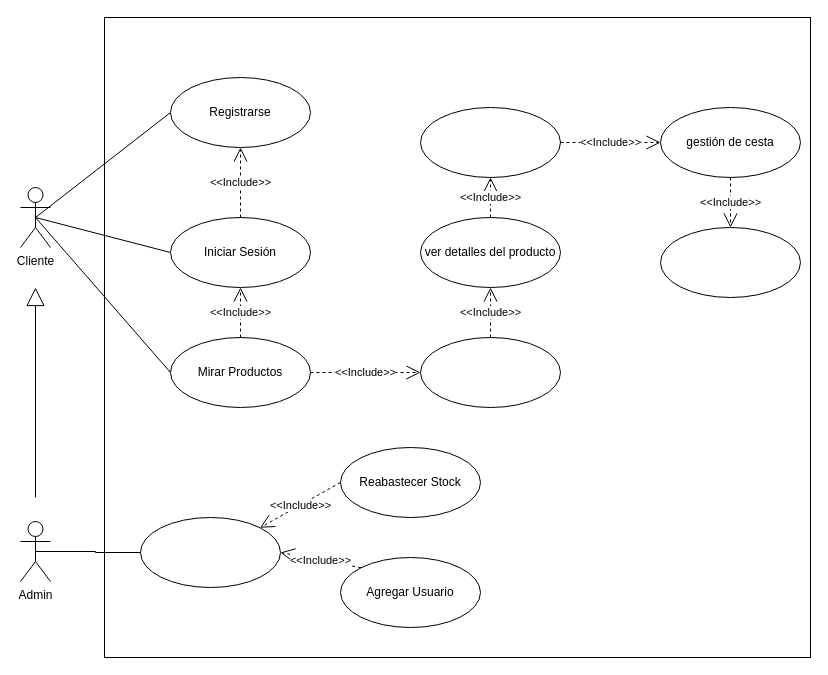
This 828x675 diagram has some shape labels left out. The shapes that lost their labels are listed below. From the top down, each one's box as (x1, y1, x2, y2) in pixels, then its label:
(420, 106, 560, 178): Añadir a la cesta
(660, 226, 800, 298): Realizar compra
(420, 336, 560, 408): Buscar/Filtrar
(140, 516, 280, 588): Gestión de Administrador
